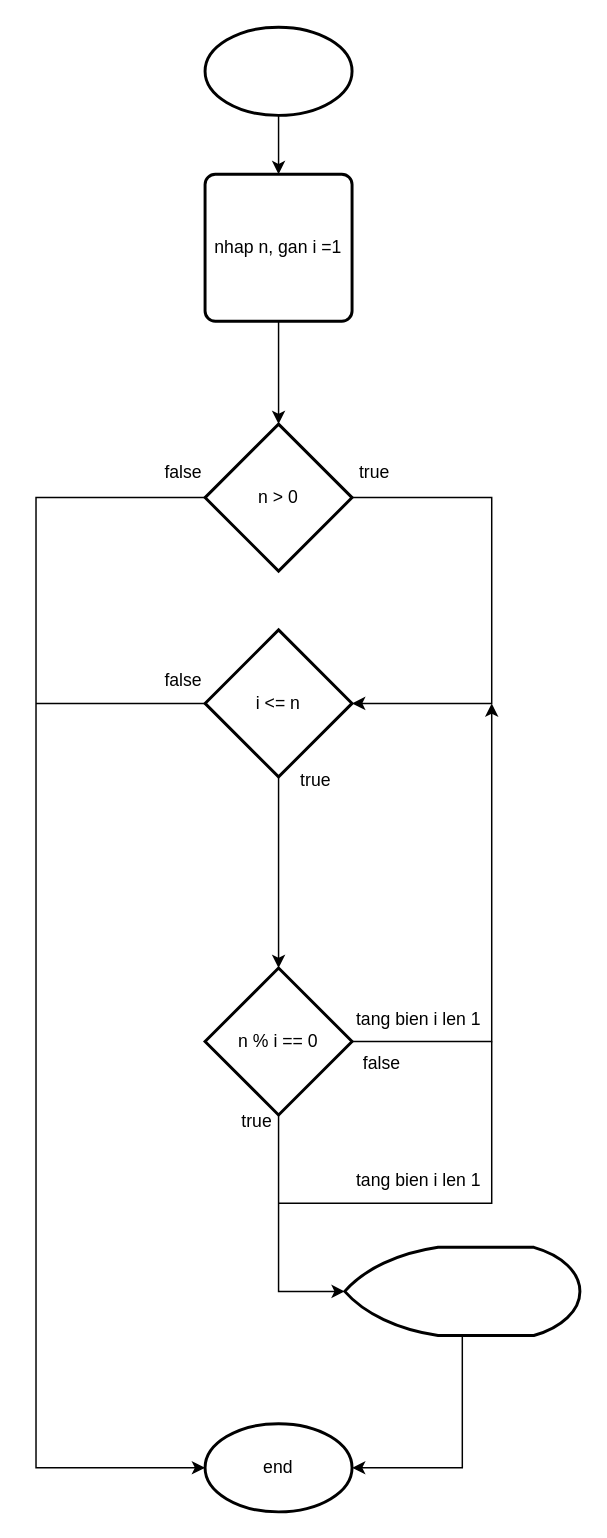
The diagram is 607 pixels wide and 1538 high, and some of its shapes have lost their labels. Each missing label, with the centre of its shape:
printf("i la uoc cua n"): point 462,1290
start: point 278,70
